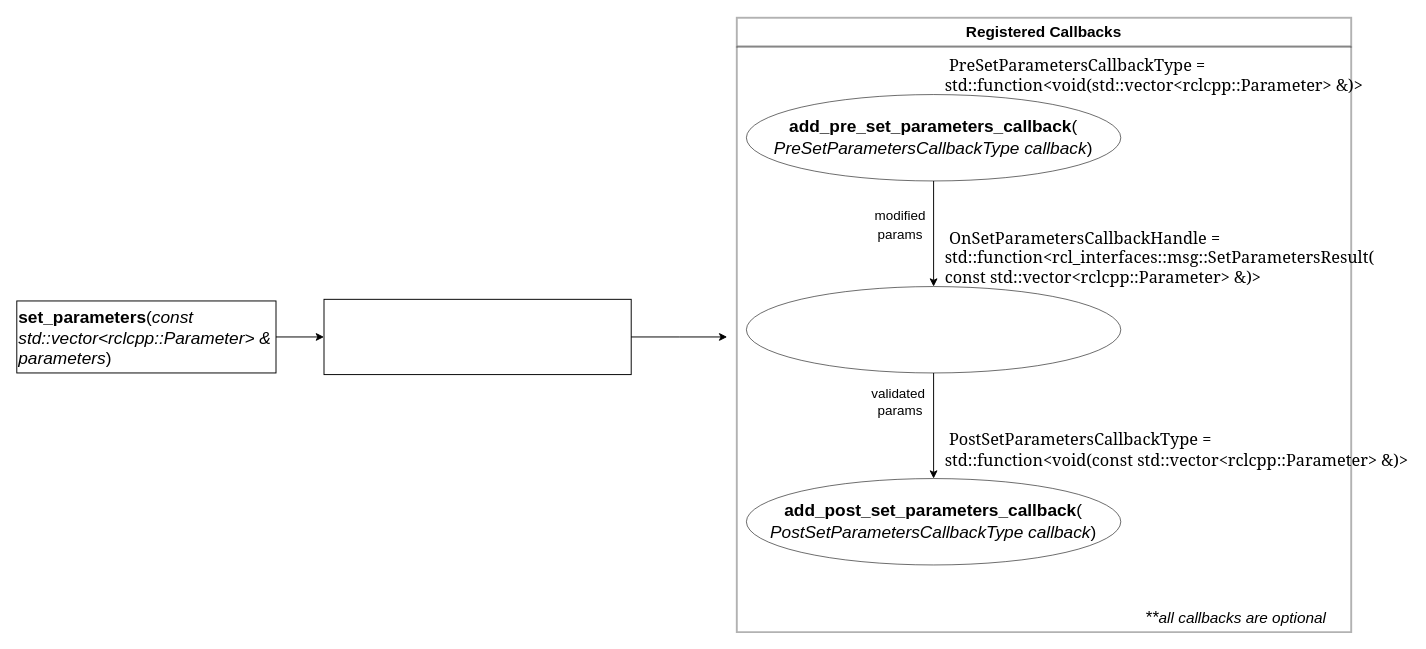
The diagram is 1426 pixels wide and 649 high, and some of its shapes have lost their labels. Each missing label, with the centre of its shape:
"add_on_set_parameters_callback ( OnSetParametersCallbackType callback )" belongs at pixel 933 329.
"set_parameters_atomically ( const std::vector<rclcpp::Parameter> & parameters )" belongs at pixel 477 336.
